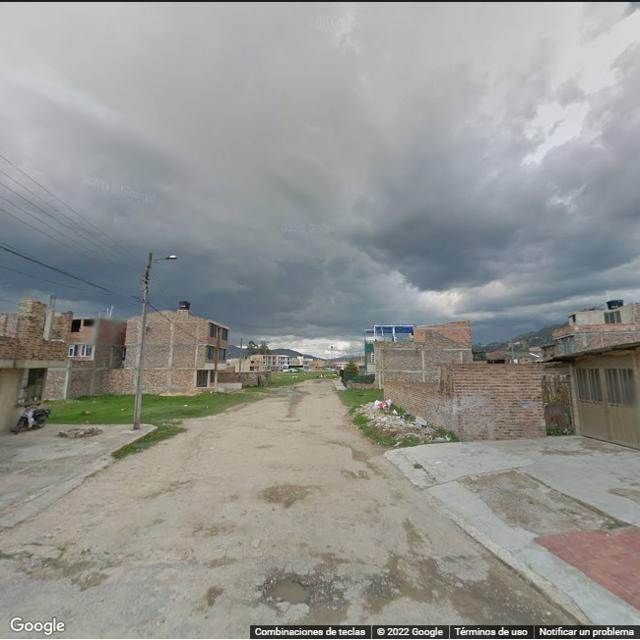D40: (261, 572, 319, 608), (257, 481, 315, 508), (22, 556, 72, 579)
